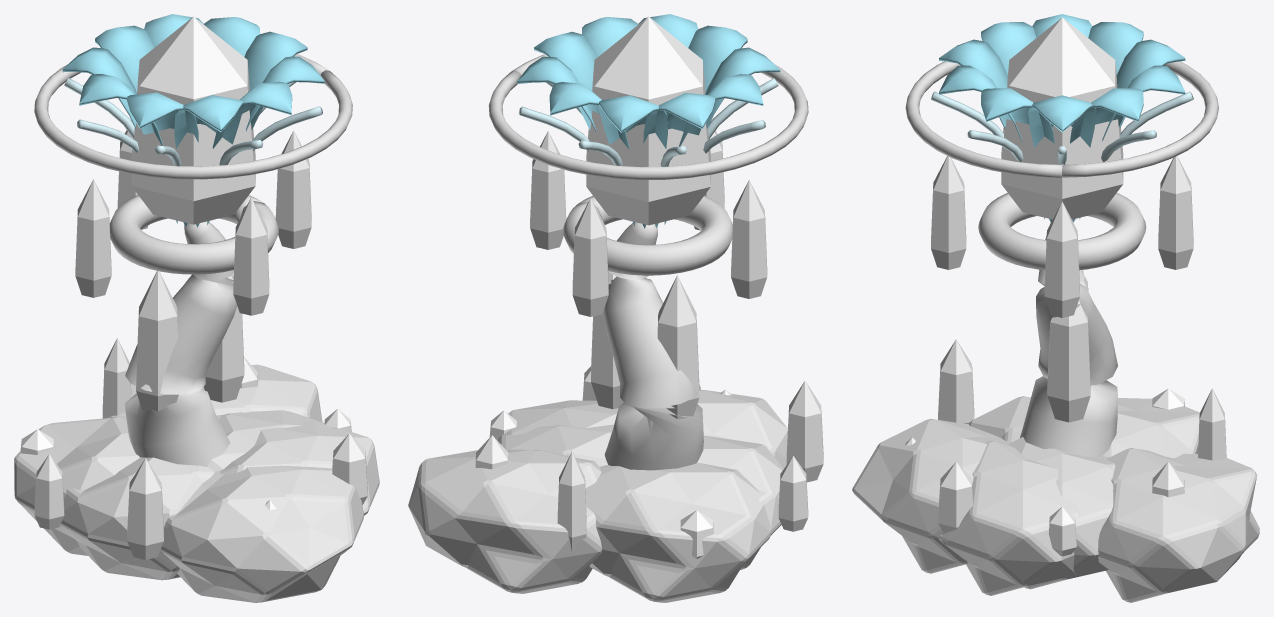
Rendered from frost-3.fbx.
The picture shows the model from 3 angles, left to right: view 1: azimuth 30°, elevation 25°; view 2: azimuth 150°, elevation 25°; view 3: azimuth 270°, elevation 25°; orthographic projection. The views are drawn at different scales.
Visible parts, largest first — view 1: Base_Stone, Petals_Glow, Turret_Glow, IceHeart, FrostRoot, Base_Glow, GoldHalo, BudCollar; view 2: Base_Stone, Petals_Glow, Turret_Glow, IceHeart, FrostRoot, Base_Glow, GoldHalo, BudCollar; view 3: Base_Stone, Petals_Glow, Turret_Glow, IceHeart, Base_Glow, FrostRoot, GoldHalo, BudCollar.
Boxes of the visible parts, x1,y1,x2,y2 form: Base_Stone: [14, 364, 379, 602]; Petals_Glow: [62, 14, 324, 227]; Turret_Glow: [75, 130, 311, 411]; IceHeart: [131, 16, 255, 224]; FrostRoot: [125, 221, 236, 466]; Base_Glow: [20, 338, 367, 559]; GoldHalo: [34, 54, 352, 179]; BudCollar: [109, 195, 278, 274]; Base_Stone: [408, 390, 787, 602]; Petals_Glow: [517, 14, 780, 228]; Turret_Glow: [530, 130, 767, 419]; IceHeart: [586, 16, 710, 225]; FrostRoot: [604, 222, 703, 470]; Base_Glow: [475, 366, 823, 558]; GoldHalo: [488, 54, 808, 179]; BudCollar: [563, 196, 732, 275]; Base_Stone: [852, 396, 1259, 602]; Petals_Glow: [931, 14, 1193, 222]; Turret_Glow: [931, 156, 1193, 422]; IceHeart: [1001, 17, 1123, 219]; Base_Glow: [905, 339, 1226, 556]; FrostRoot: [1020, 223, 1117, 457]; GoldHalo: [905, 61, 1218, 177]; BudCollar: [978, 193, 1146, 270].
Bounding box in the file's own units: 83.19 × 129 × 89.72.
